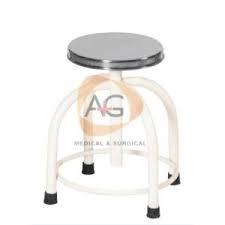stool: (43, 31, 181, 218)
